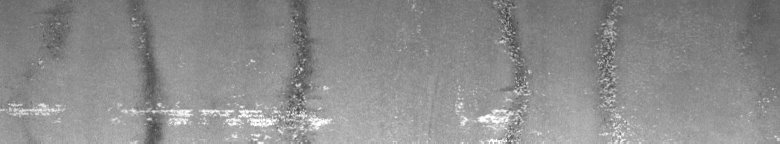hc: (412, 4, 628, 136)
